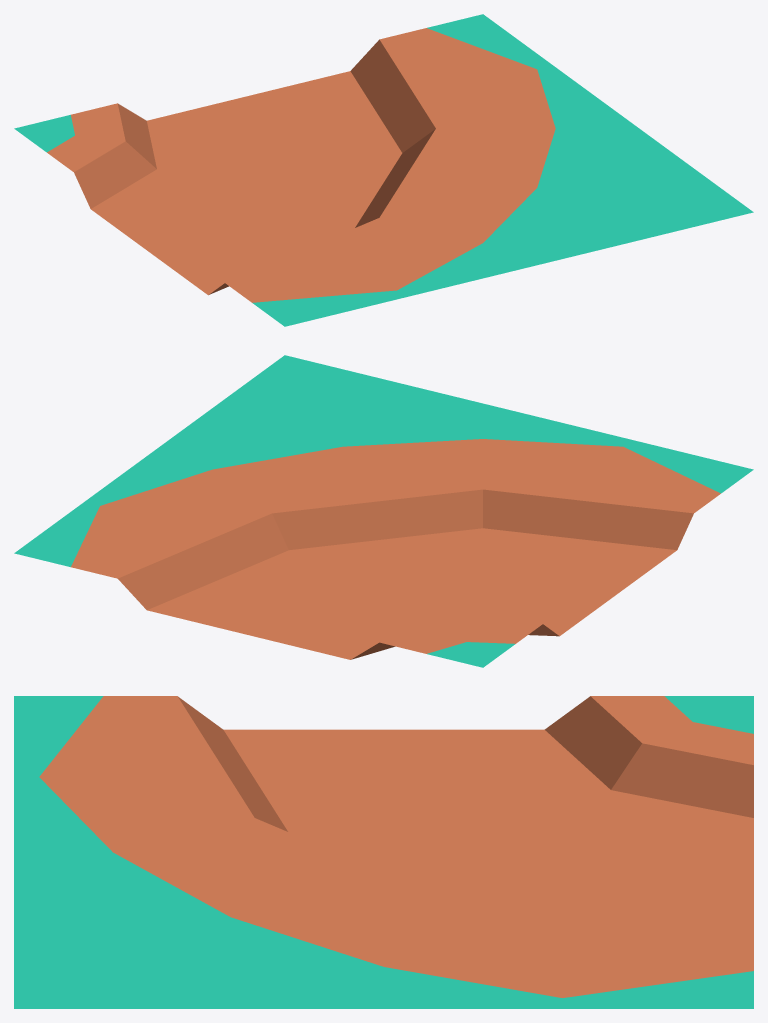
Rendered from ground_pathBendBank.obj.
The picture shows the model from 3 angles, top to bottom: view 1: azimuth 30°, elevation 25°; view 2: azimuth 150°, elevation 25°; view 3: azimuth 270°, elevation 25°; orthographic projection. The views are drawn at different scales.
Parts seen in each view (by area): view 1: ground_pathBendBank; view 2: ground_pathBendBank; view 3: ground_pathBendBank.
Part boxes in pixels (x1,y1,x2,y2): ground_pathBendBank: [14, 14, 753, 326]; ground_pathBendBank: [14, 355, 753, 667]; ground_pathBendBank: [14, 696, 753, 1008].
Bounding box in the file's own units: 1 × 0.05 × 1.
